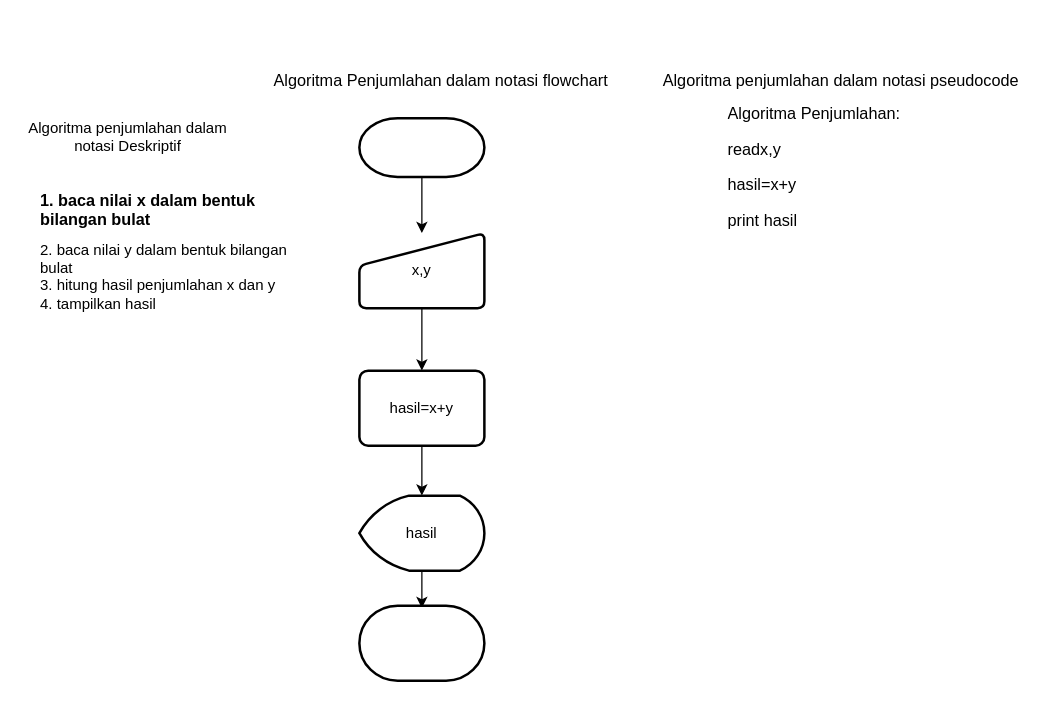
The diagram is 1055 pixels wide and 704 high, and some of its shapes have lost their labels. Each missing label, with the box of its shape:
Mulai: (358, 116, 485, 178)
selesai: (358, 604, 485, 681)
